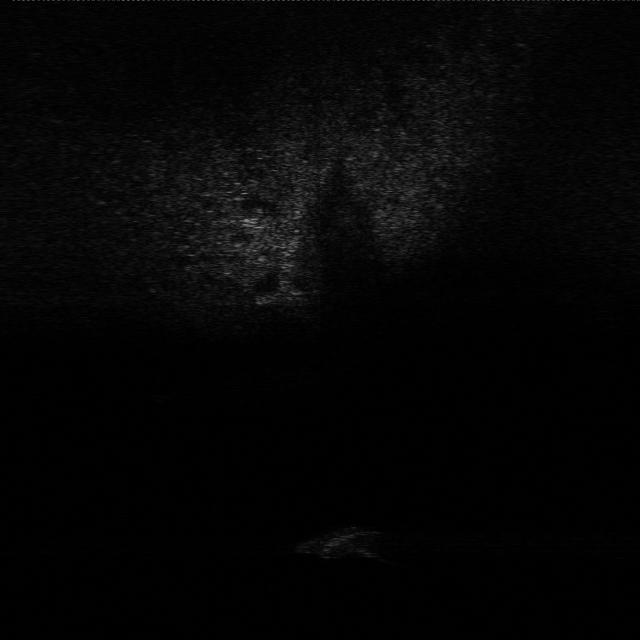circle cage: (299, 517, 392, 566)
